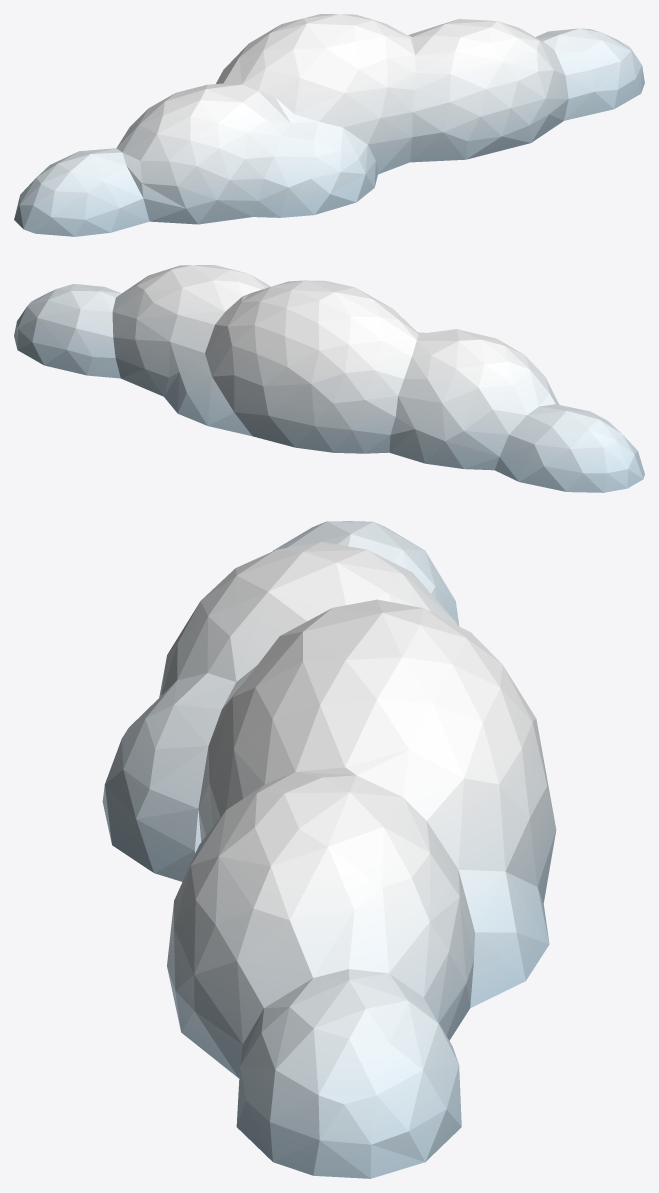
The model's file is cloud_menu_A.fbx.
The picture shows the model from 3 angles, top to bottom: view 1: azimuth 30°, elevation 25°; view 2: azimuth 150°, elevation 25°; view 3: azimuth 270°, elevation 25°; orthographic projection. The views are drawn at different scales.
Visible parts, largest first — view 1: cloud_menu_A; view 2: cloud_menu_A; view 3: cloud_menu_A.
Boxes of the visible parts, box(x1,y1,x2,y2) form: cloud_menu_A: box(14, 14, 644, 236); cloud_menu_A: box(14, 265, 644, 492); cloud_menu_A: box(102, 521, 556, 1178).
Bounding box in the file's own units: 49.8 × 9.6 × 15.79.
